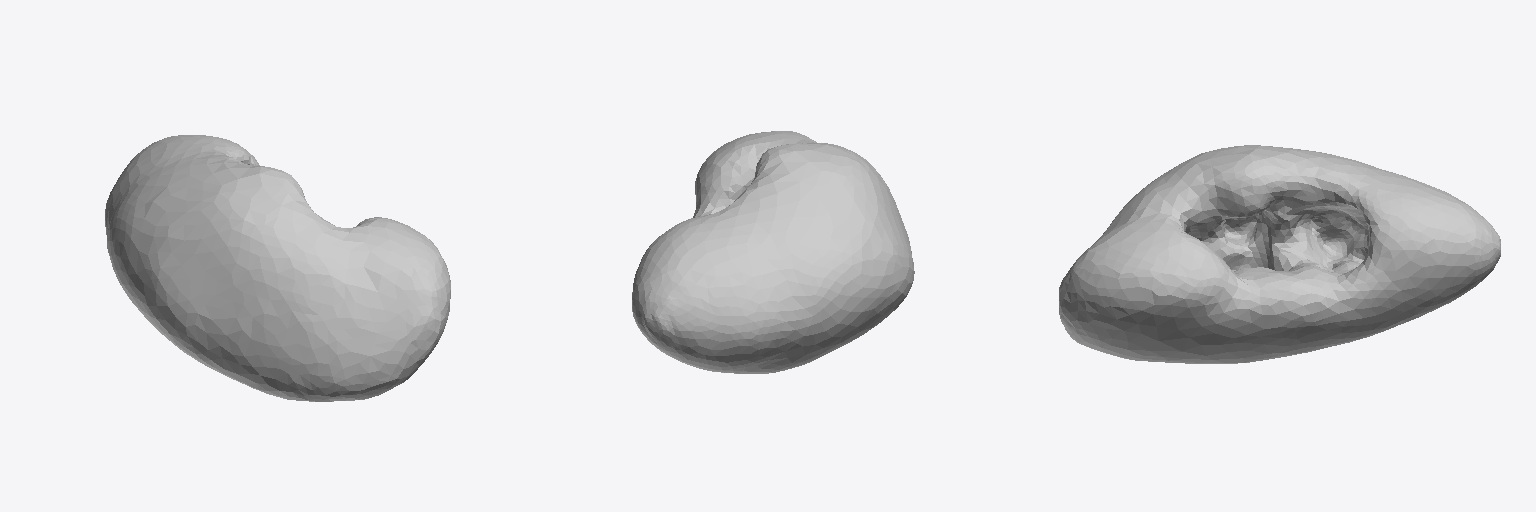
The model's file is left_kidney.obj.
The picture shows the model from 3 angles: view 1: azimuth 30°, elevation 25°; view 2: azimuth 150°, elevation 25°; view 3: azimuth 270°, elevation 25°; orthographic projection.
Visible parts, largest first — view 1: left_kidney; view 2: left_kidney; view 3: left_kidney.
Boxes of the visible parts, x1,y1,x2,y2 form: left_kidney: [105, 135, 450, 401]; left_kidney: [632, 131, 914, 373]; left_kidney: [1059, 145, 1500, 363].
Bounding box in the file's own units: 66.87 × 51.59 × 107.